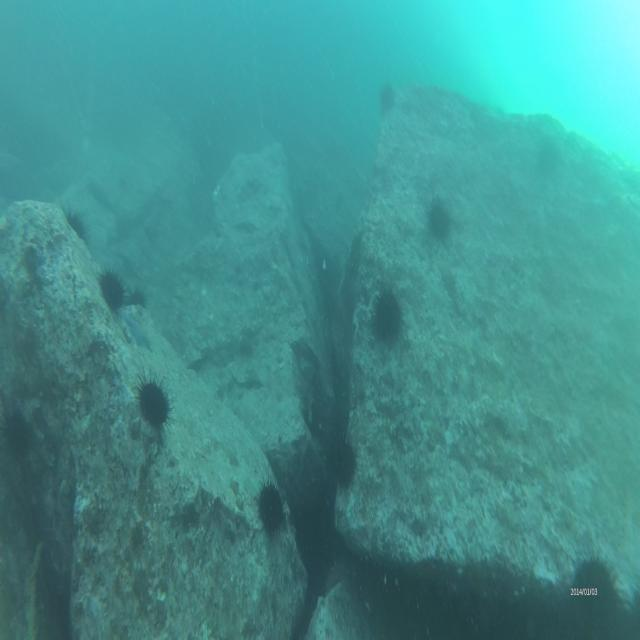echinus: (568, 540, 622, 624), (133, 364, 176, 447), (368, 281, 406, 354), (256, 470, 290, 550), (54, 203, 90, 255), (328, 435, 359, 495), (95, 267, 127, 316), (426, 192, 455, 244), (122, 283, 150, 324)
